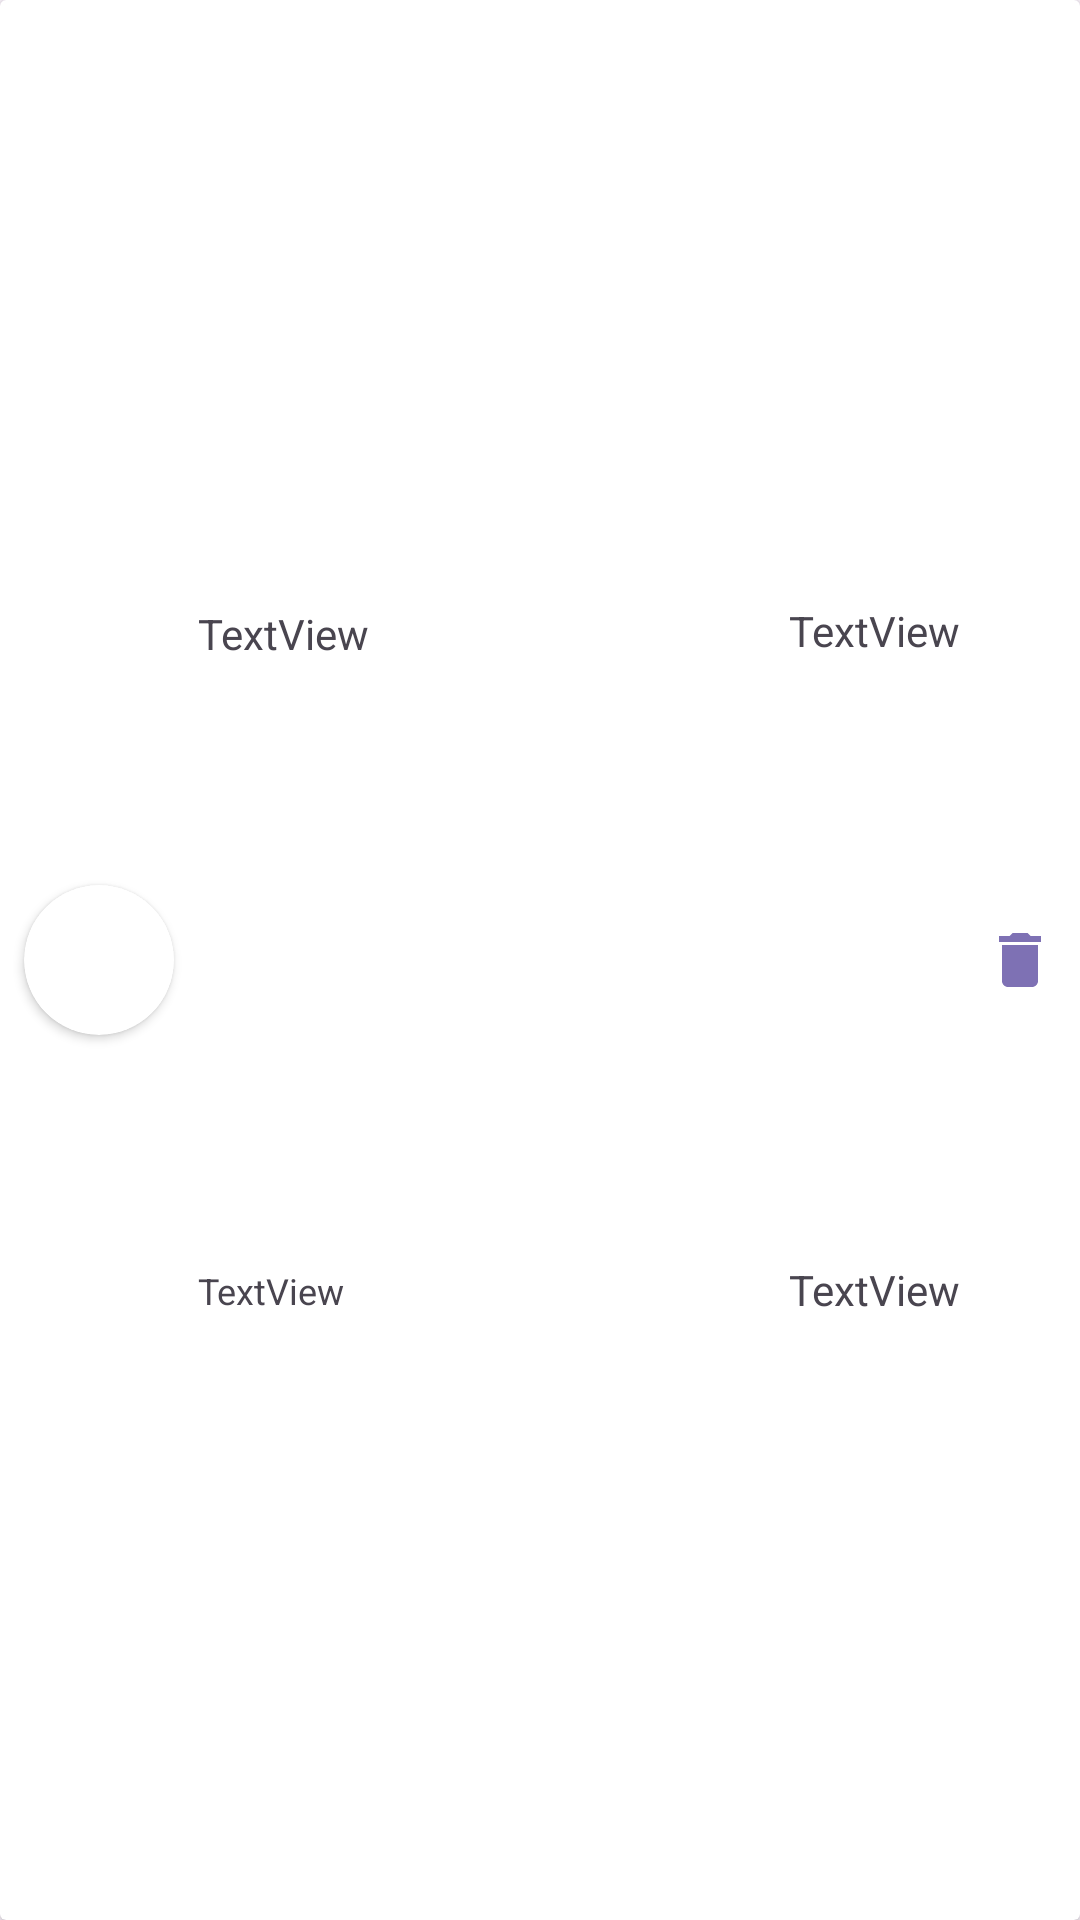

Point at icon controls on the screen. Image size 1080w x 1920h, points as point (x, y).
delete: point (1020, 960)
